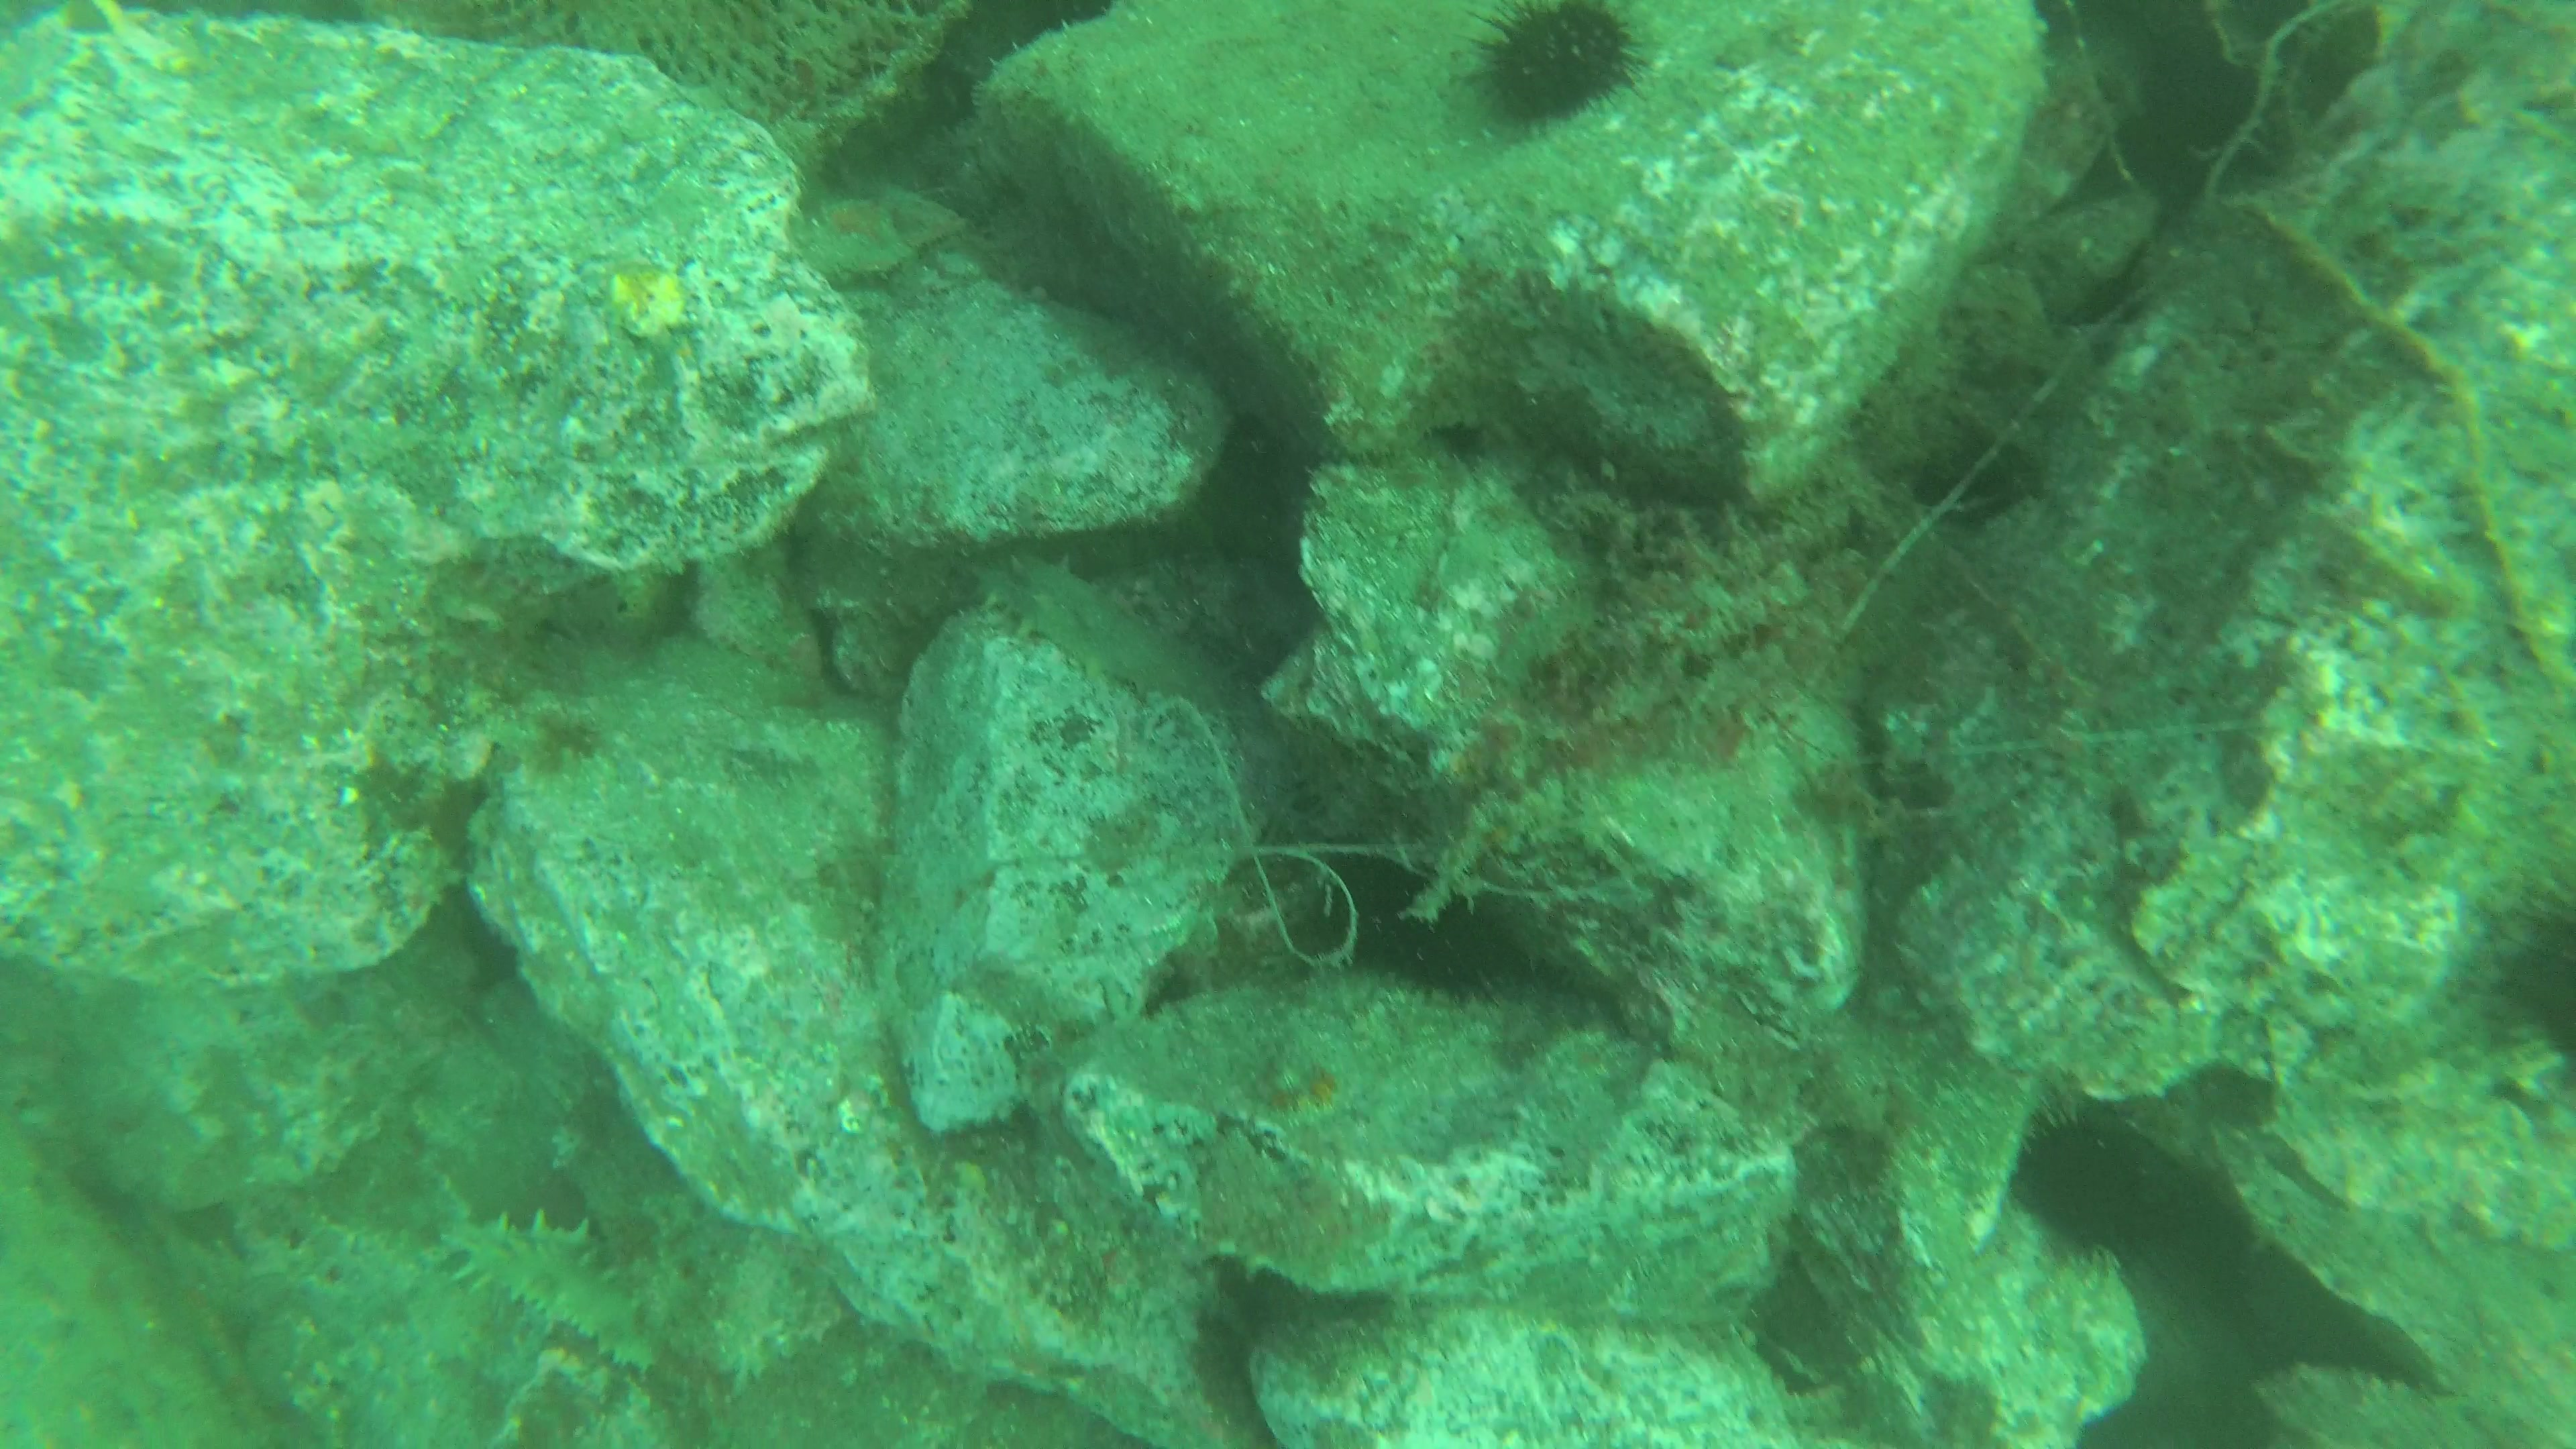echinus: (1447, 0, 1654, 126)
holothurian: (973, 536, 1254, 718), (435, 1207, 667, 1387), (954, 1177, 1143, 1378), (1175, 1120, 1403, 1286), (2270, 483, 2465, 628), (648, 1214, 809, 1385)
